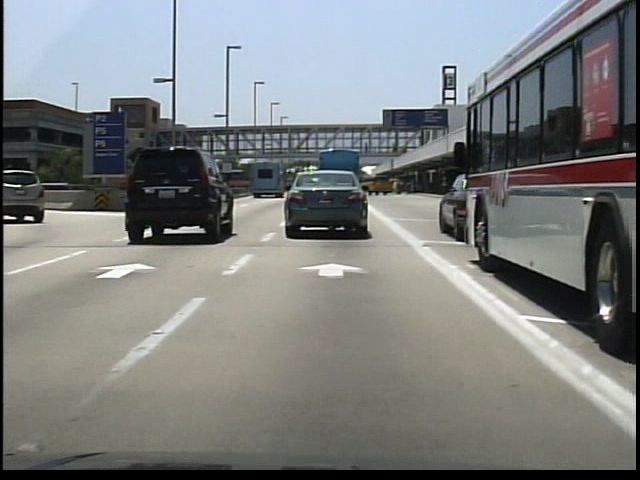person: (390, 177, 404, 199), (389, 136, 402, 158), (359, 136, 372, 156)
